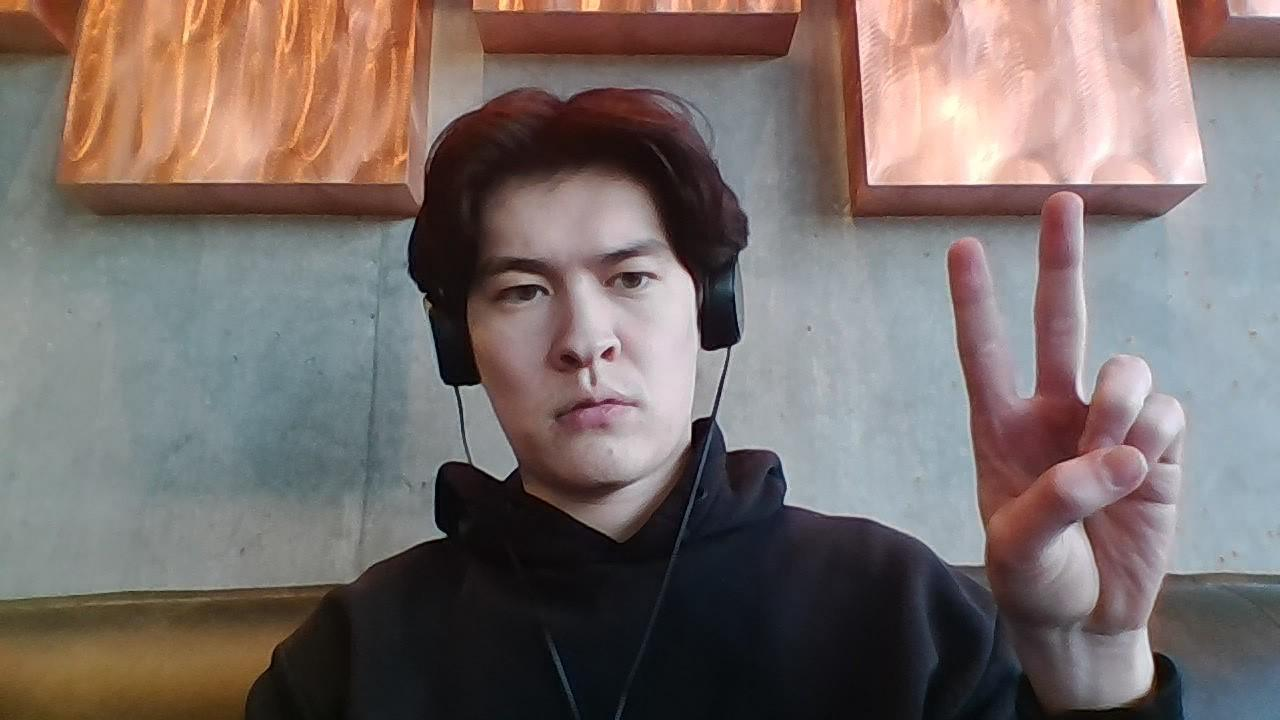peace: (948, 188, 1187, 634)
